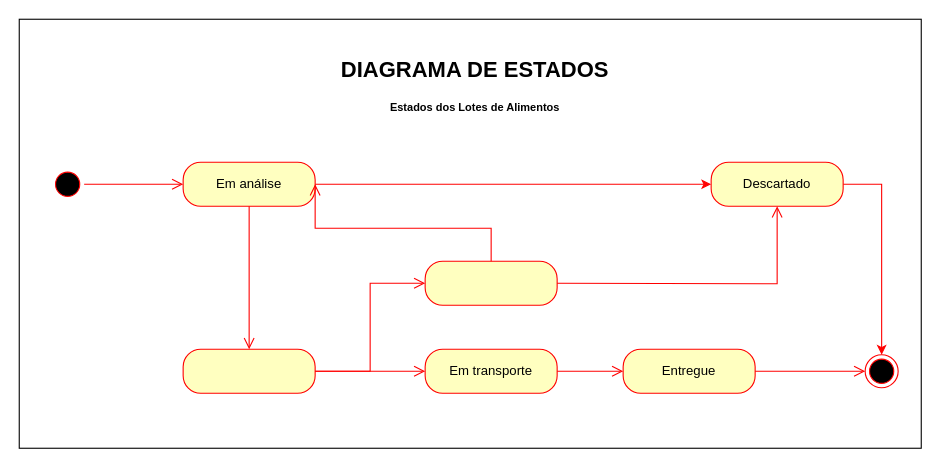
The diagram is 941 pixels wide and 468 high, and some of its shapes have lost their labels. The centre of each missing label's shape, as x and y in pixels:
Empacotado: the point at 248,370
Reanálise: the point at 490,282
